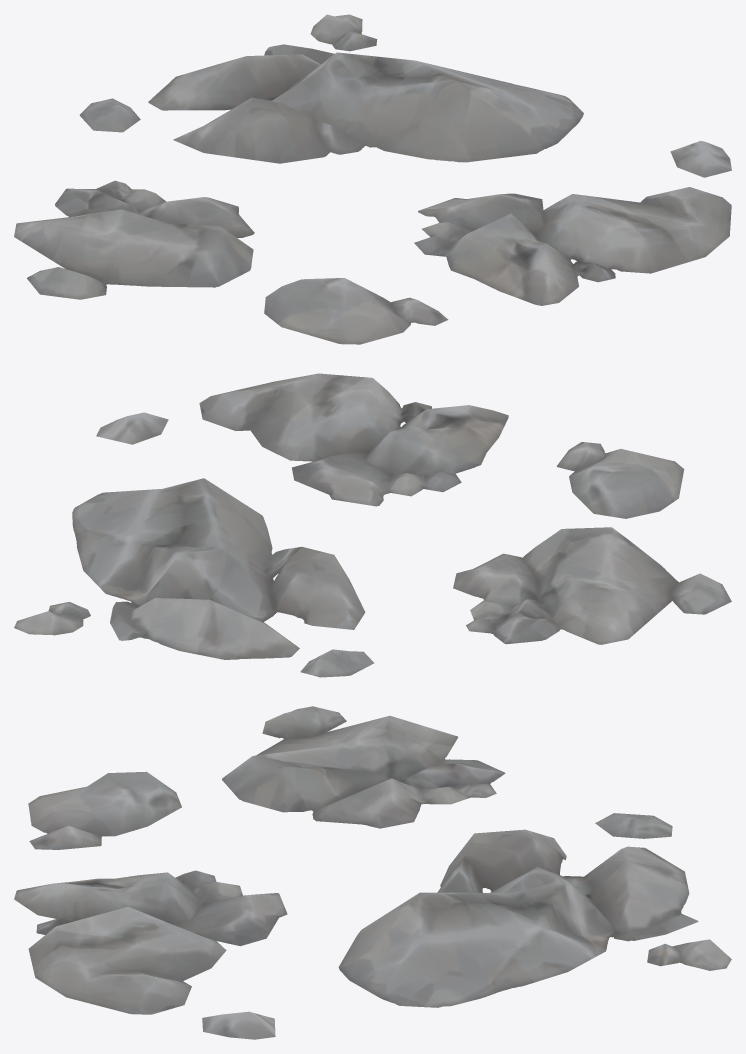
Rendered from SM_PebblesGroup_06.fbx.
The picture shows the model from 3 angles, top to bottom: view 1: azimuth 30°, elevation 25°; view 2: azimuth 150°, elevation 25°; view 3: azimuth 270°, elevation 25°; orthographic projection. The views are drawn at different scales.
Visible parts, largest first — view 1: SM_PebblesGroup_06_LOD0; view 2: SM_PebblesGroup_06_LOD0; view 3: SM_PebblesGroup_06_LOD0.
Boxes of the visible parts, x1,y1,x2,y2 form: SM_PebblesGroup_06_LOD0: (14,14,731,344); SM_PebblesGroup_06_LOD0: (14,373,731,677); SM_PebblesGroup_06_LOD0: (14,706,731,1039).
Size of the model in its own units: 187 by 14.33 by 172.
